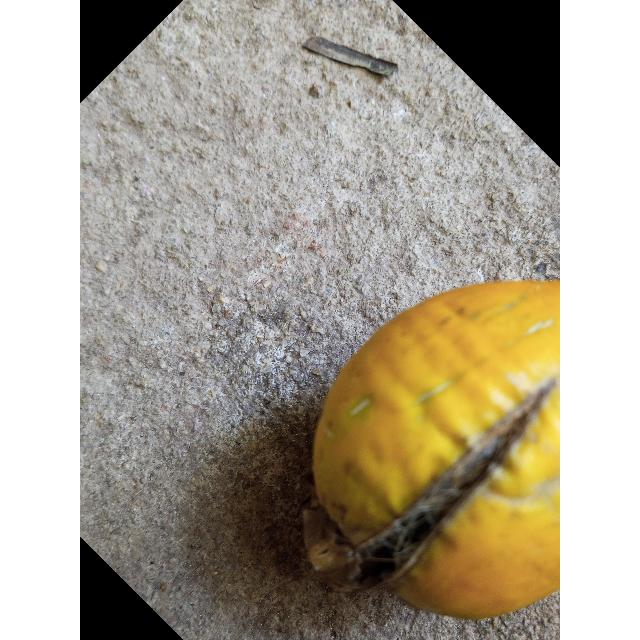damaged: (310, 280, 560, 622)
